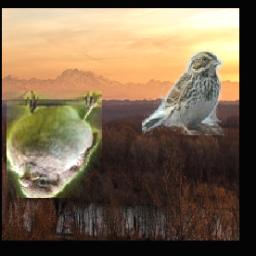Sparrow: (6, 91, 101, 198), (141, 50, 224, 136)
